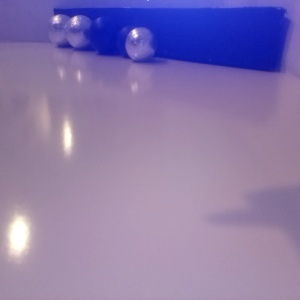alive_ball: (132, 48, 248, 167), (67, 44, 126, 104)
